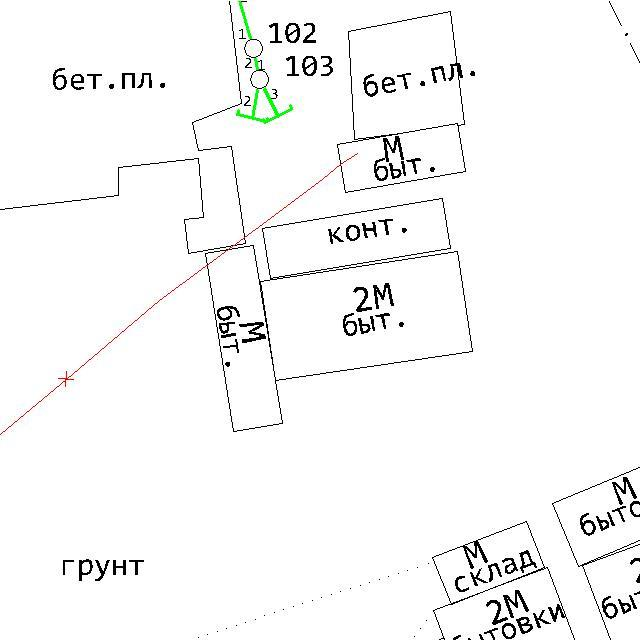well: (242, 36, 266, 60), (248, 68, 271, 91)
